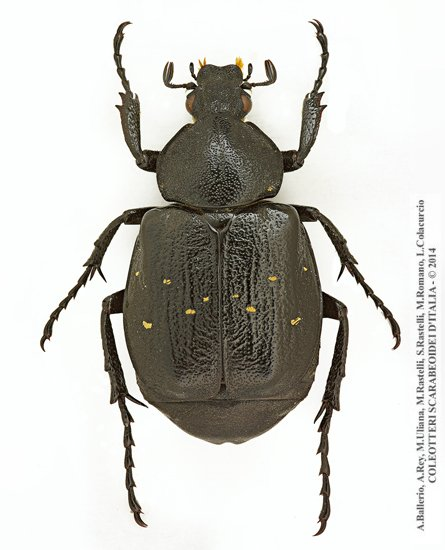Gnorimus_variabilis: (25, 11, 403, 544)
